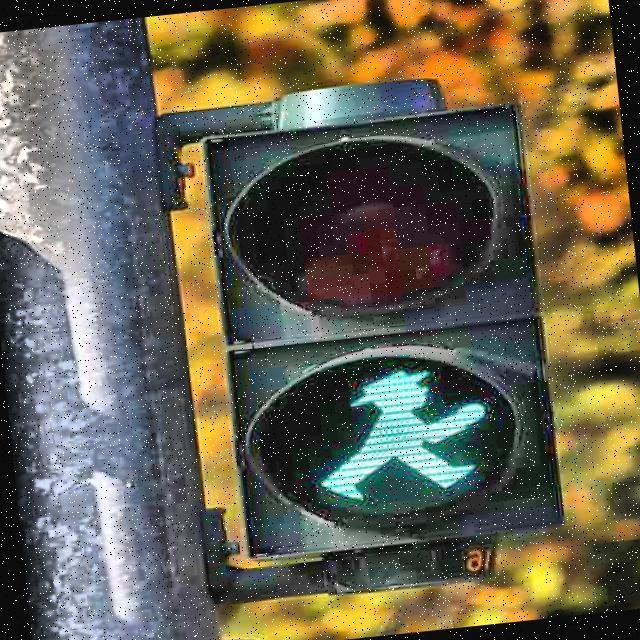green_light: (299, 355, 503, 512)
